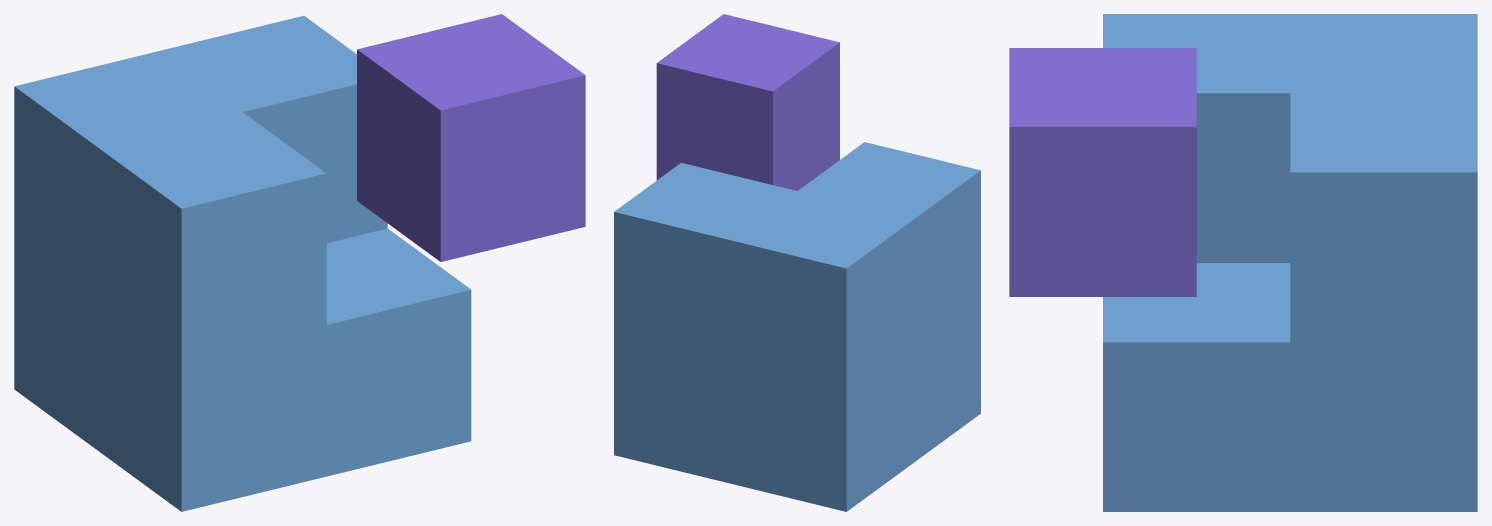
The picture shows the model from 3 angles, left to right: view 1: azimuth 30°, elevation 25°; view 2: azimuth 150°, elevation 25°; view 3: azimuth 270°, elevation 25°; orthographic projection. The views are drawn at different scales.
Parts seen in each view (by area): view 1: Cube; view 2: Cube; view 3: Cube.
Part boxes in pixels (x1,y1,x2,y2): Cube: (14,14,585,511); Cube: (614,14,980,511); Cube: (1009,14,1477,511).
Size of the model in its own units: 0.625 by 0.625 by 0.625.
